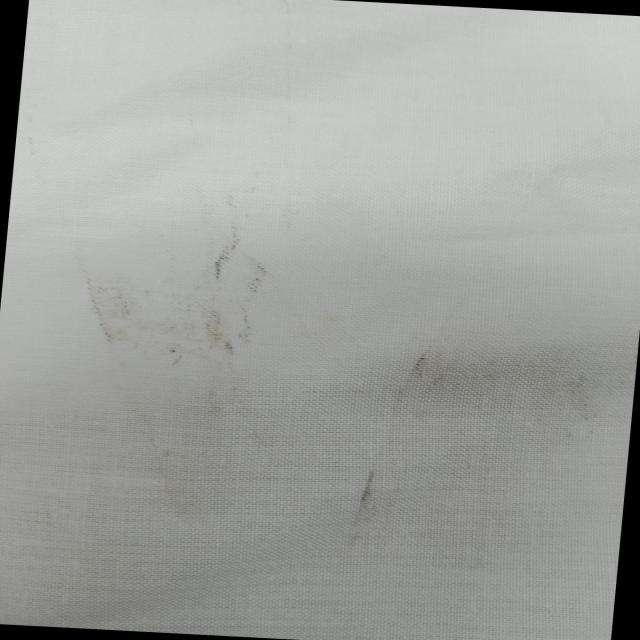stain: (348, 343, 585, 558), (74, 215, 284, 412)
